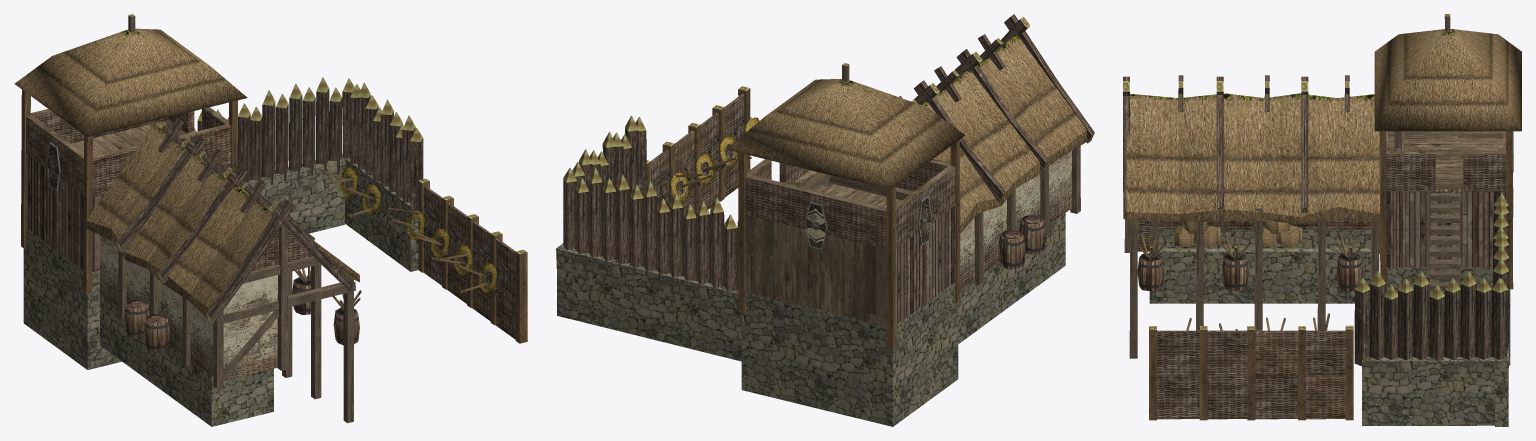
Rendered from range.dae.
The picture shows the model from 3 angles, left to right: view 1: azimuth 30°, elevation 25°; view 2: azimuth 150°, elevation 25°; view 3: azimuth 270°, elevation 25°; orthographic projection. The views are drawn at different scales.
Parts seen in each view (by area): view 1: range; view 2: range; view 3: range.
Part boxes in pixels (left/top/right/bottom): range: left=14, top=14, right=527, bottom=426; range: left=556, top=14, right=1094, bottom=426; range: left=1123, top=14, right=1521, bottom=426.
Size of the model in its own units: 22.81 by 22.79 by 19.9.
